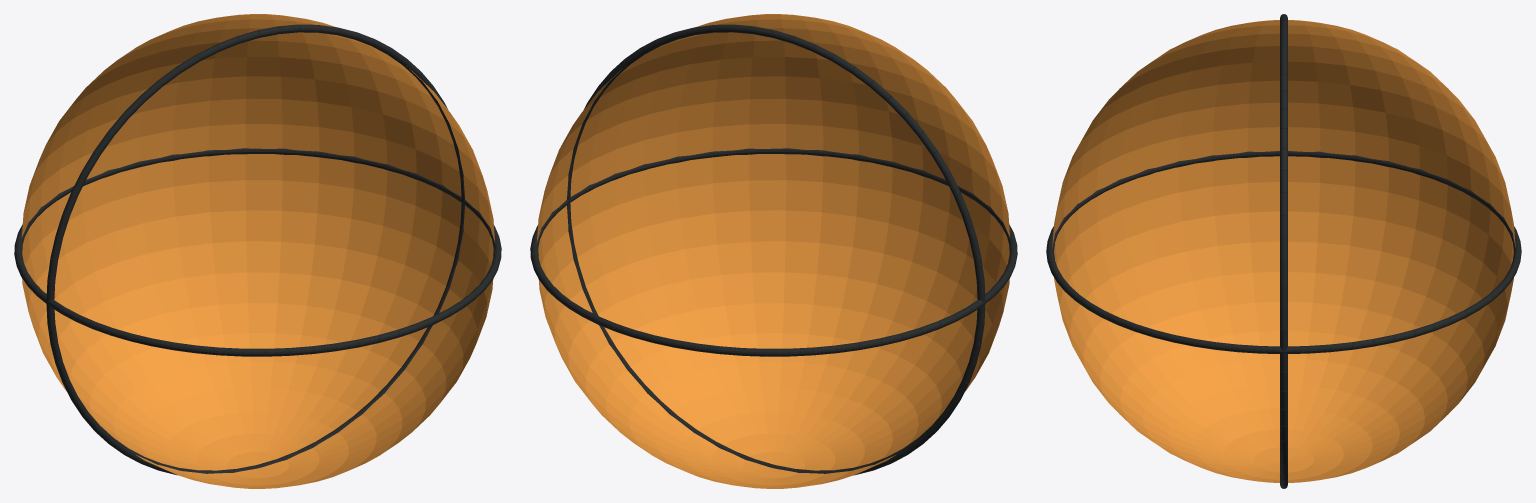
Rendered from basketball-club-and-street-courts-basketball-91dd8371__28548.glb.
The picture shows the model from 3 angles, left to right: view 1: azimuth 30°, elevation 25°; view 2: azimuth 150°, elevation 25°; view 3: azimuth 270°, elevation 25°; orthographic projection. The views are drawn at different scales.
Visible parts, largest first — view 1: basketball; view 2: basketball; view 3: basketball.
Boxes of the visible parts, x1=… form: basketball: x1=14, y1=14, x2=501, y2=488; basketball: x1=530, y1=14, x2=1017, y2=488; basketball: x1=1046, y1=14, x2=1521, y2=488.
Size of the model in its own units: 0.246 by 0.246 by 0.246.
